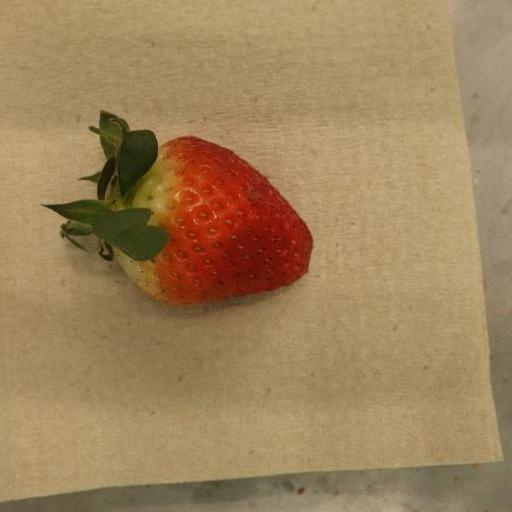Strawberry: (43, 111, 314, 306)
